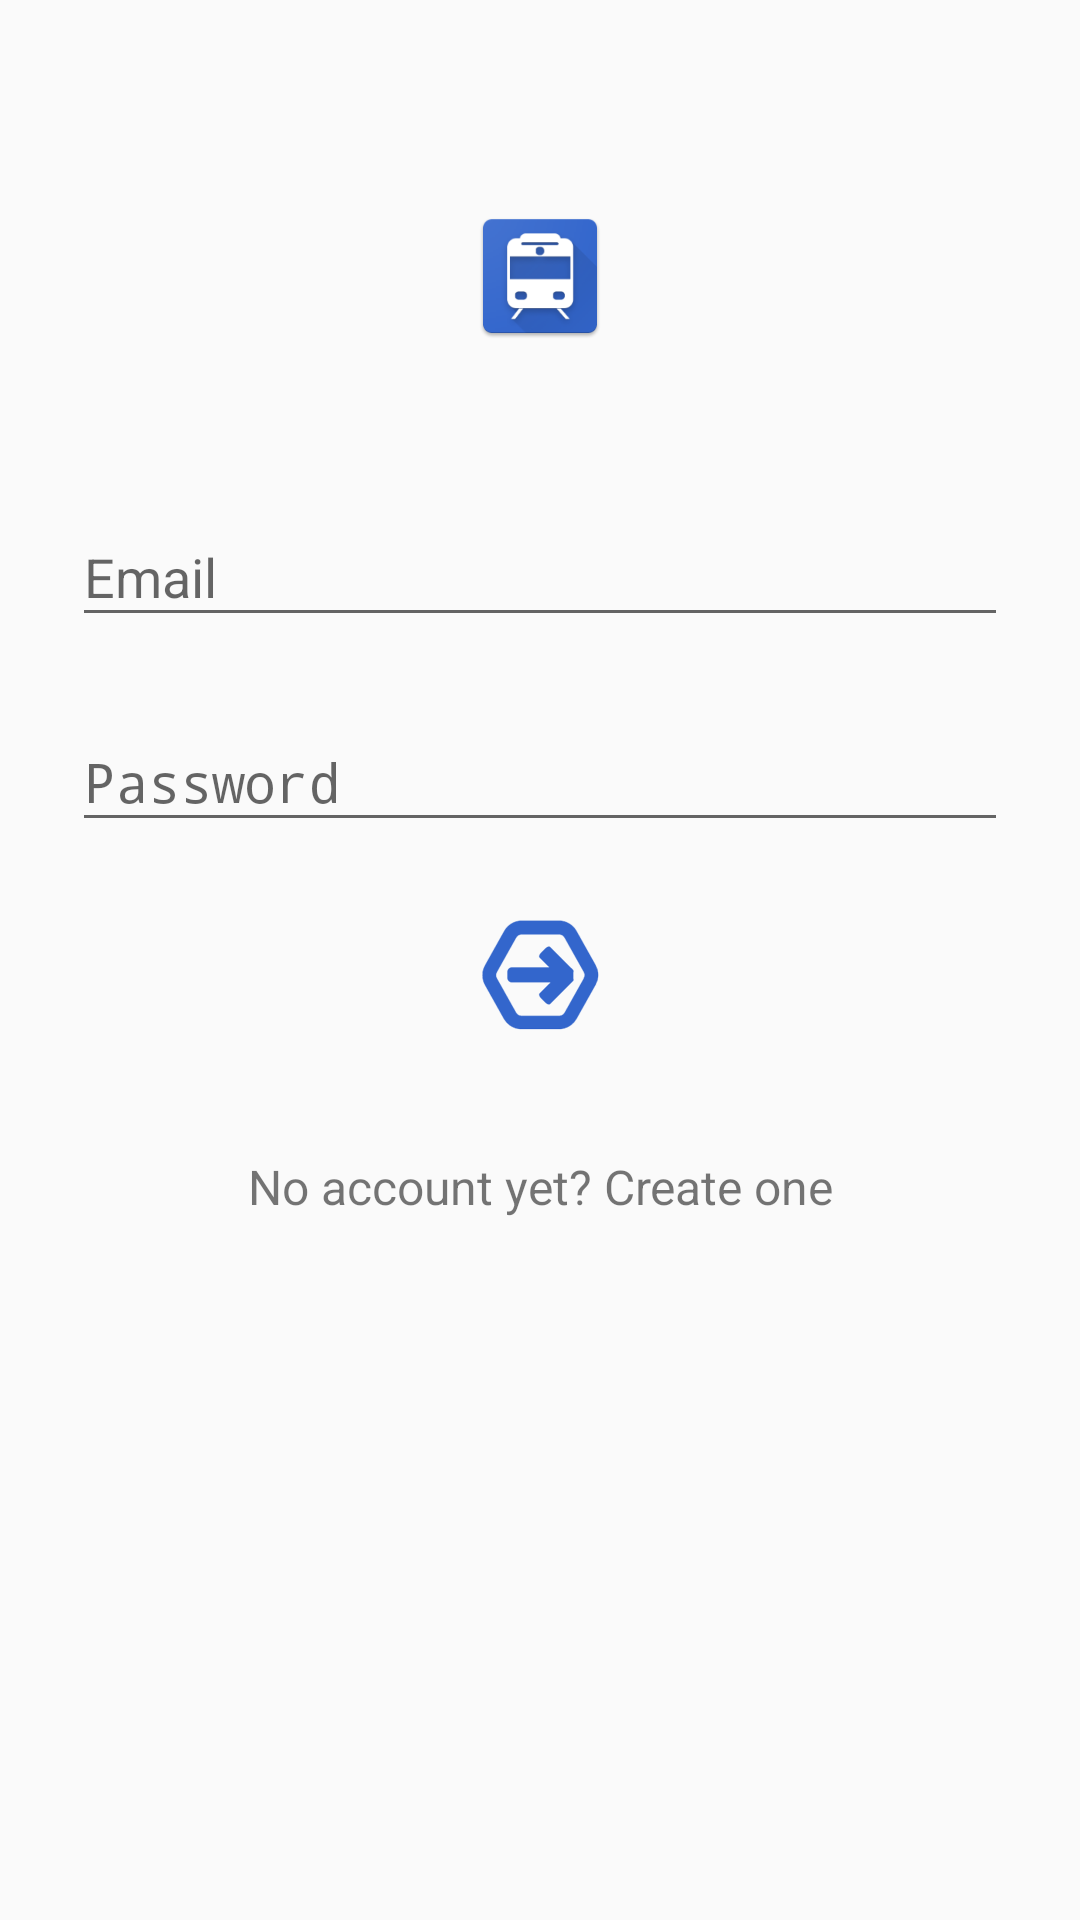

Point at icon controls on the screen. Image size 1080px x 1920px, points as (x,y).
login: (540,975)
